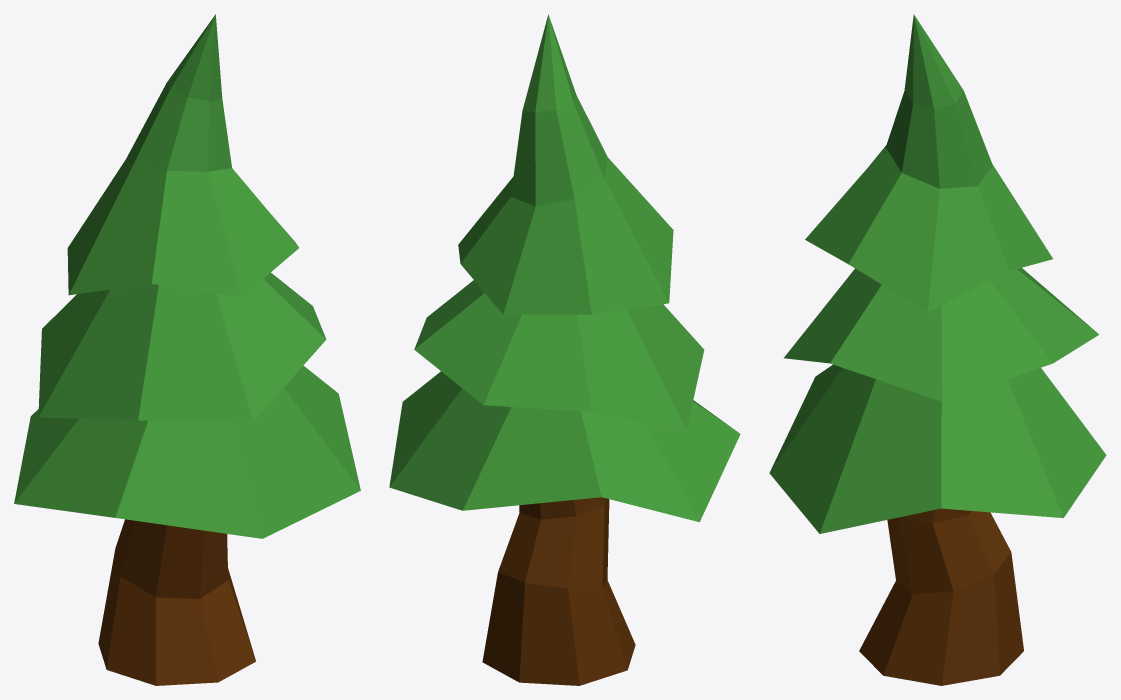
The model's file is arbre6.fbx.
The picture shows the model from 3 angles, left to right: view 1: azimuth 30°, elevation 25°; view 2: azimuth 150°, elevation 25°; view 3: azimuth 270°, elevation 25°; orthographic projection. The views are drawn at different scales.
Parts seen in each view (by area): view 1: Circle.001; view 2: Circle.001; view 3: Circle.001.
Boxes of the visible parts, box(x1,y1,x2,y2) form: Circle.001: box(14, 14, 360, 685); Circle.001: box(389, 14, 740, 685); Circle.001: box(769, 14, 1106, 685).
Size of the model in its own units: 188 by 366 by 172.
